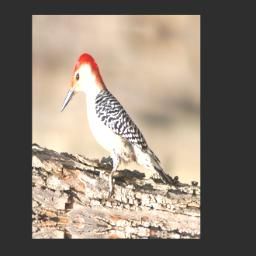Woodpecker: (57, 45, 179, 209)
